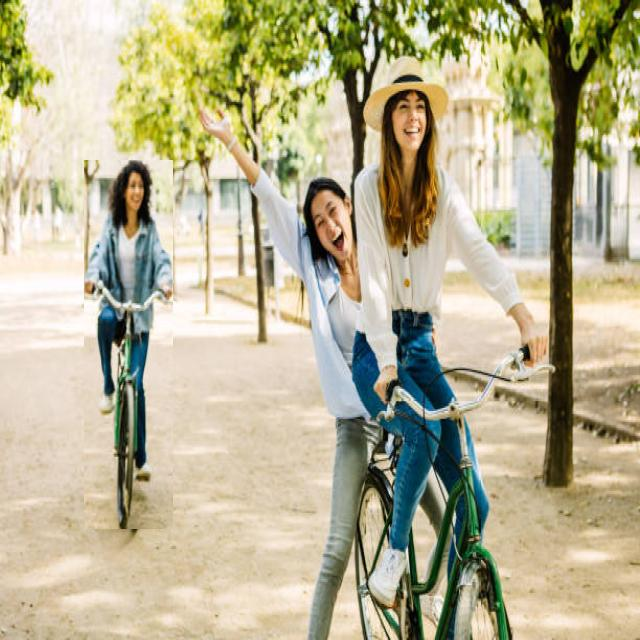bicycle: (201, 56, 548, 639), (85, 161, 173, 529)
